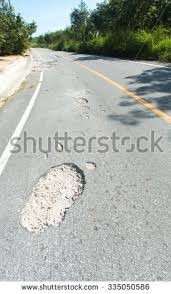pothole: (15, 147, 96, 254)
